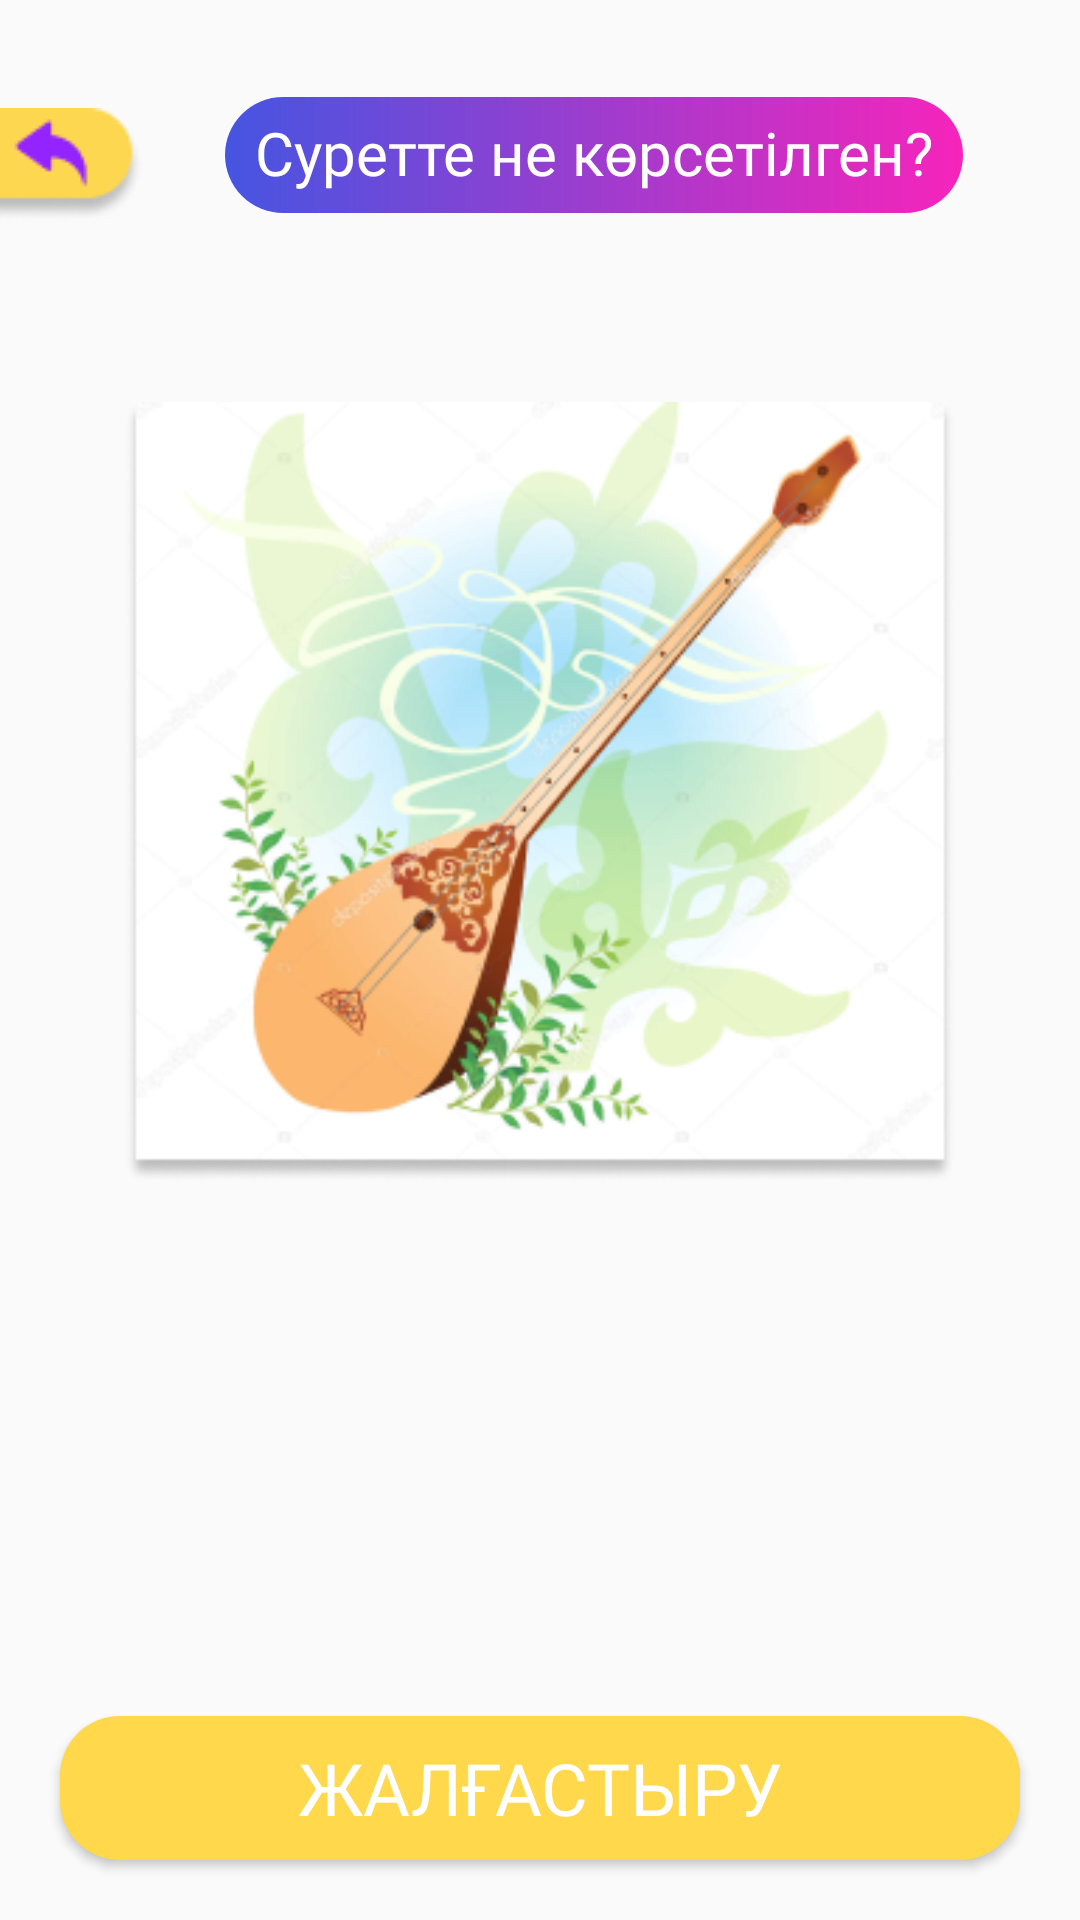

Icon click points for this 1080px×1920px phone screenshot, format (x,y):
back: (66,160)
